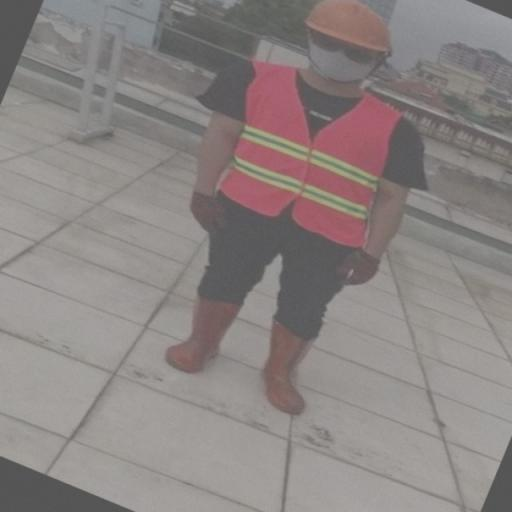Person: (145, 2, 439, 439)
boots: (260, 312, 326, 422), (166, 286, 244, 376)
gloves: (339, 243, 381, 295), (190, 188, 232, 234)
goggles: (306, 35, 388, 65)
helmet: (304, 0, 392, 50)
vest: (229, 58, 402, 252)
